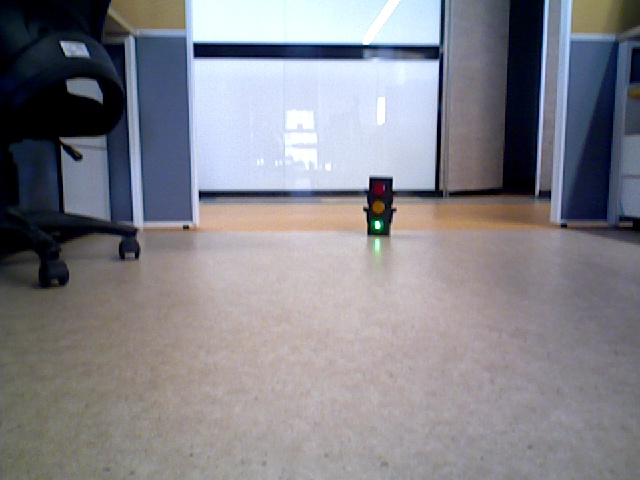green: (368, 177, 390, 231)
